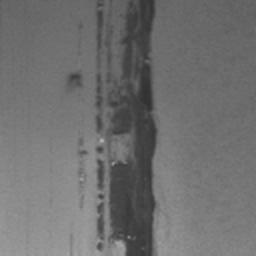Slag inclusion: (93, 0, 160, 253), (76, 159, 92, 209), (67, 70, 82, 88), (78, 136, 88, 156), (96, 146, 104, 154)
